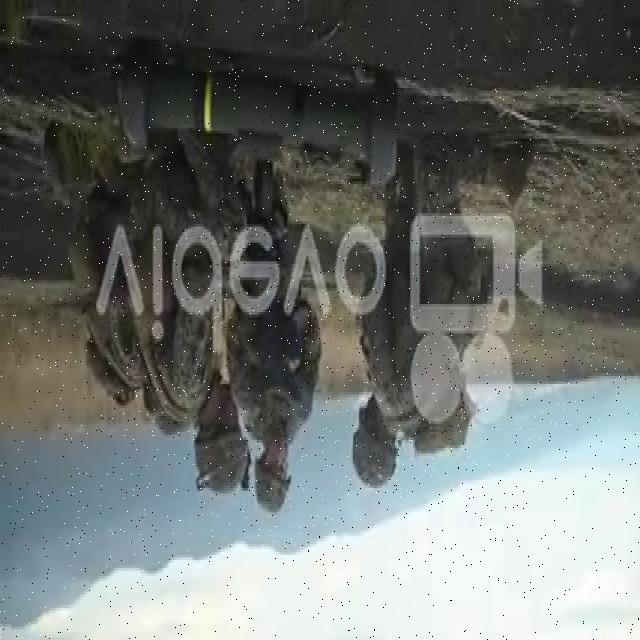bazooka: (113, 42, 409, 178)
